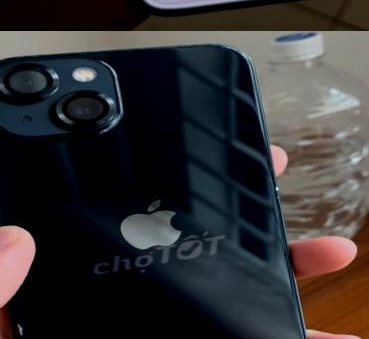physical_damage: (1, 308, 53, 339), (262, 175, 288, 201), (0, 172, 17, 200)
